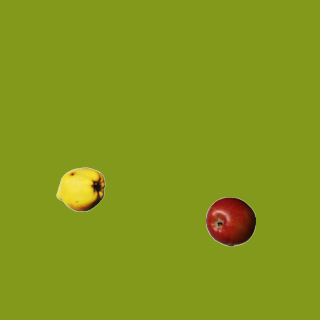Apple Braeburn: (205, 196, 255, 246)
Quince: (55, 164, 105, 214)
